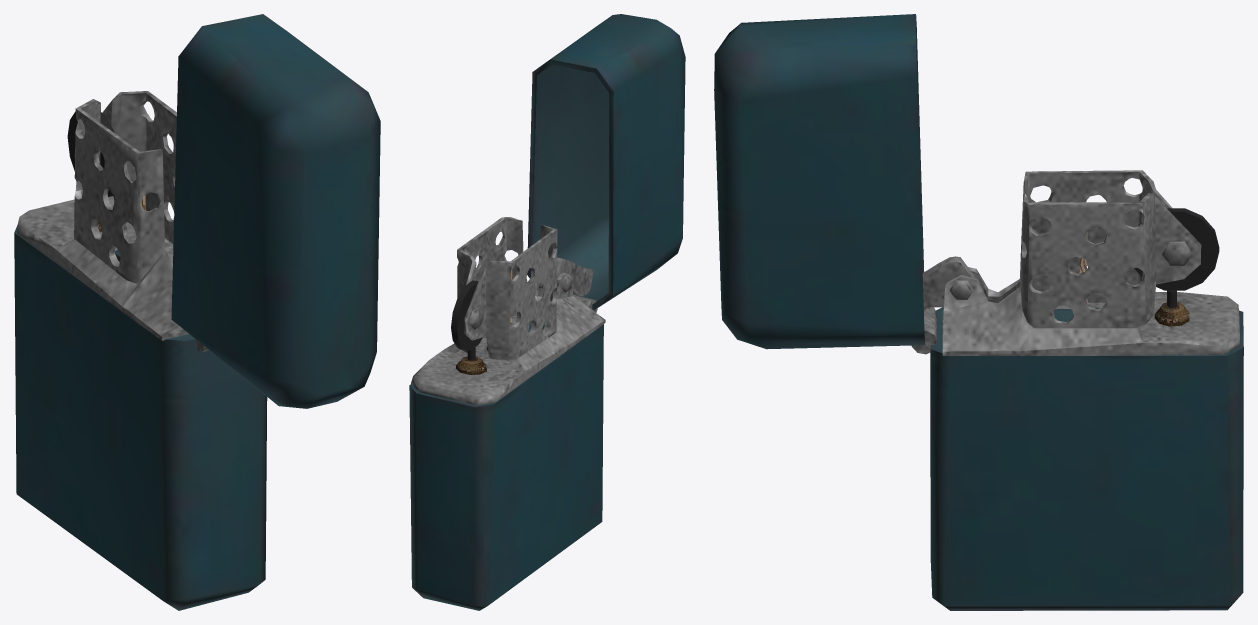
File: isqueiro.glb
3 renders of one model, left to right at view 1: azimuth 30°, elevation 25°; view 2: azimuth 150°, elevation 25°; view 3: azimuth 270°, elevation 25°, orthographic. The views are drawn at different scales.
Visible parts, largest first — view 1: Cube_flashligthBase_0, Cube.001_metalLighter_0, Cylinder.002_kzemien_2_0; view 2: Cube_flashligthBase_0, Cube.001_metalLighter_0, Cylinder.002_kzemien_2_0, Cylinder.003_copper_0; view 3: Cube_flashligthBase_0, Cube.001_metalLighter_0, Cylinder.002_kzemien_2_0.
Boxes of the visible parts, x1=… form: Cube_flashligthBase_0: x1=14, y1=14, x2=380, y2=610; Cube.001_metalLighter_0: x1=17, y1=91, x2=209, y2=351; Cylinder.002_kzemien_2_0: x1=67, y1=111, x2=114, y2=196; Cube_flashligthBase_0: x1=409, y1=14, x2=685, y2=610; Cube.001_metalLighter_0: x1=411, y1=217, x2=605, y2=405; Cylinder.002_kzemien_2_0: x1=451, y1=280, x2=482, y2=350; Cylinder.003_copper_0: x1=456, y1=356, x2=486, y2=374; Cube_flashligthBase_0: x1=714, y1=14, x2=1243, y2=610; Cube.001_metalLighter_0: x1=911, y1=170, x2=1240, y2=355; Cylinder.002_kzemien_2_0: x1=1134, y1=208, x2=1219, y2=290.
Size of the model in its own units: 0.7703 by 3.86 by 3.27.
Materials: 6 (6 with a texture image).
